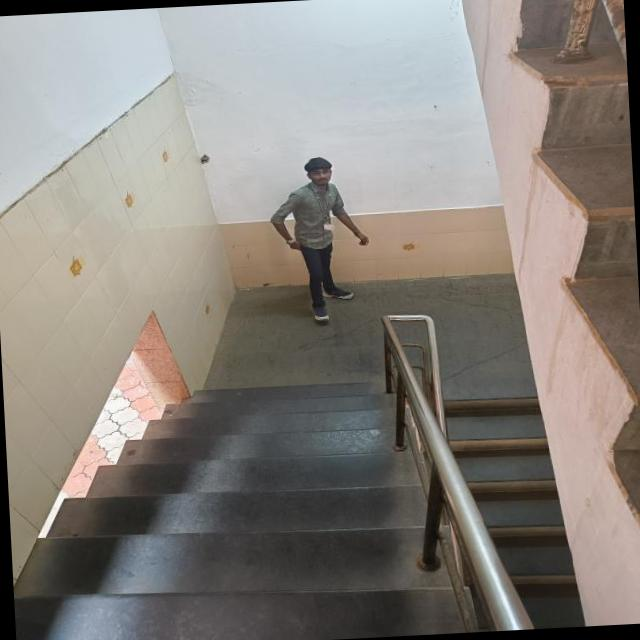id_card: (314, 187, 338, 235)
